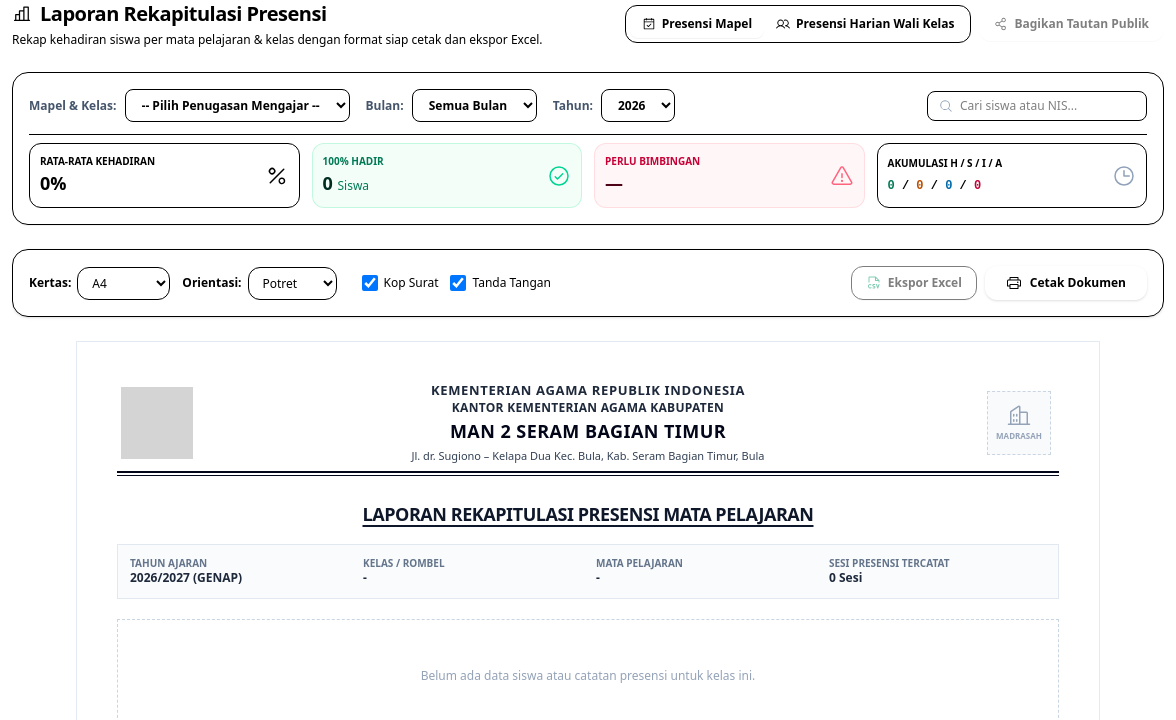
it: Priority 5A: Academic Year & Semester Assignment Isolation › TC-REPORT-TRANSITION-06: homeroom mode operates independently of subject assignment validity
# Switch to Homeroom tab
Click the button "Presensi Harian Wali Kelas" at (865, 24), box x1=764 y1=10 x2=966 y2=38
(page scrolled)
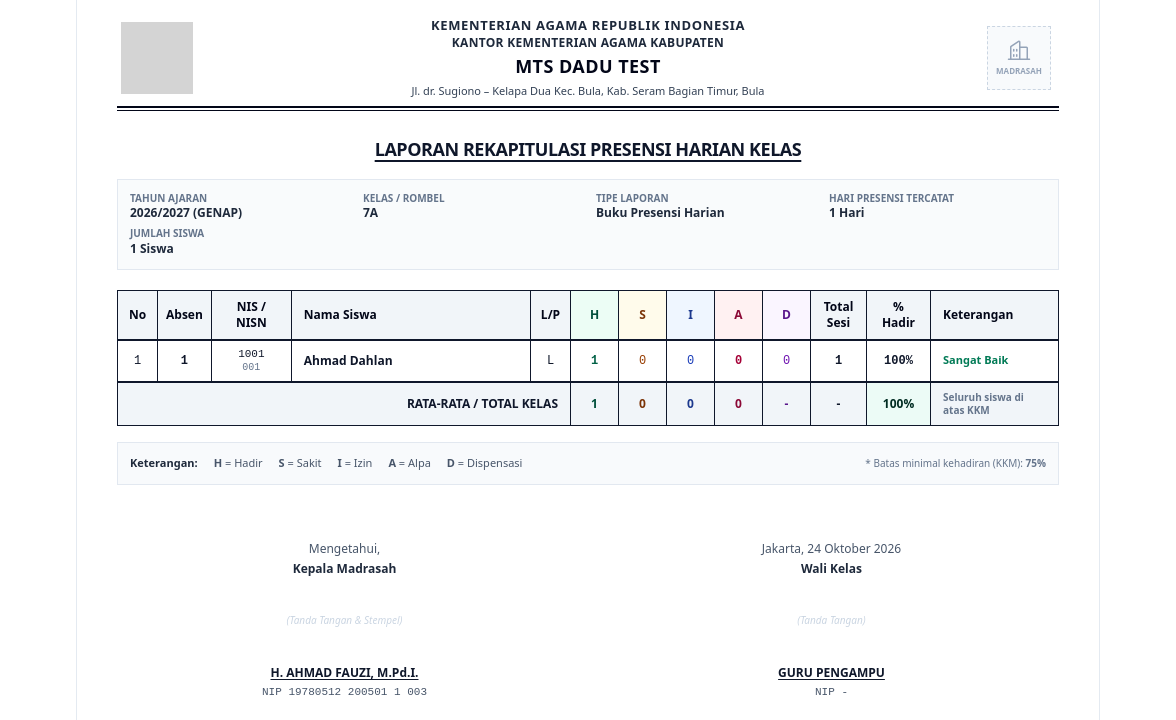
Expected: the text "Ahmad Dahlan" is shown, x1=291 y1=340 x2=530 y2=382
